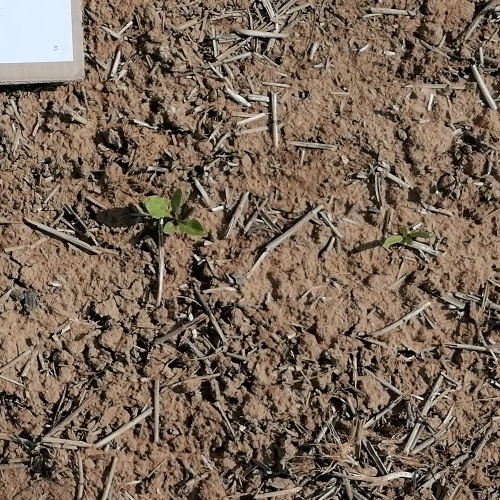beet: (143, 188, 210, 235), (382, 222, 433, 247)
